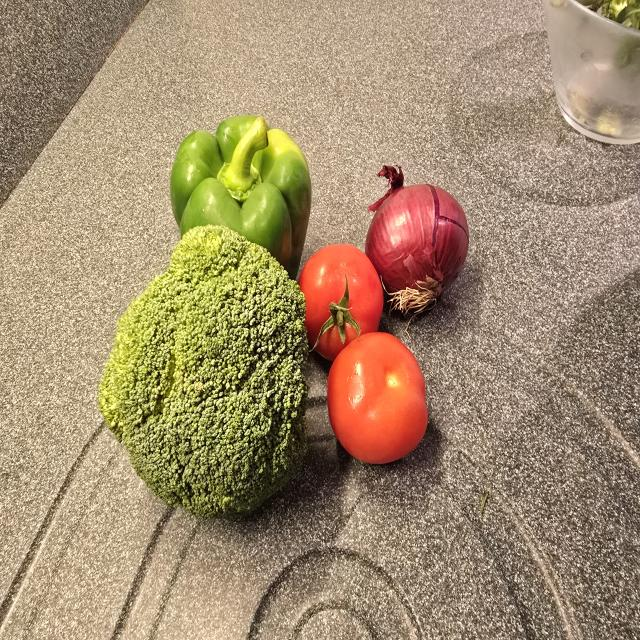Bell Pepper: (170, 115, 311, 279)
Broccoli: (98, 226, 308, 516)
Onion: (365, 166, 469, 314)
Tomato: (328, 333, 428, 464), (298, 244, 383, 361)
